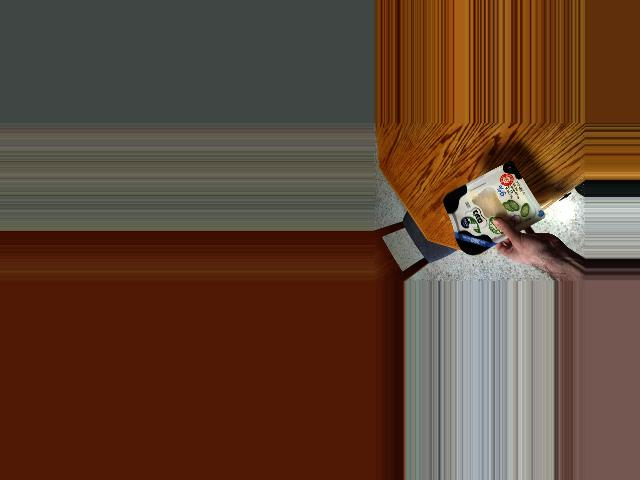cheese: (445, 167, 533, 253)
